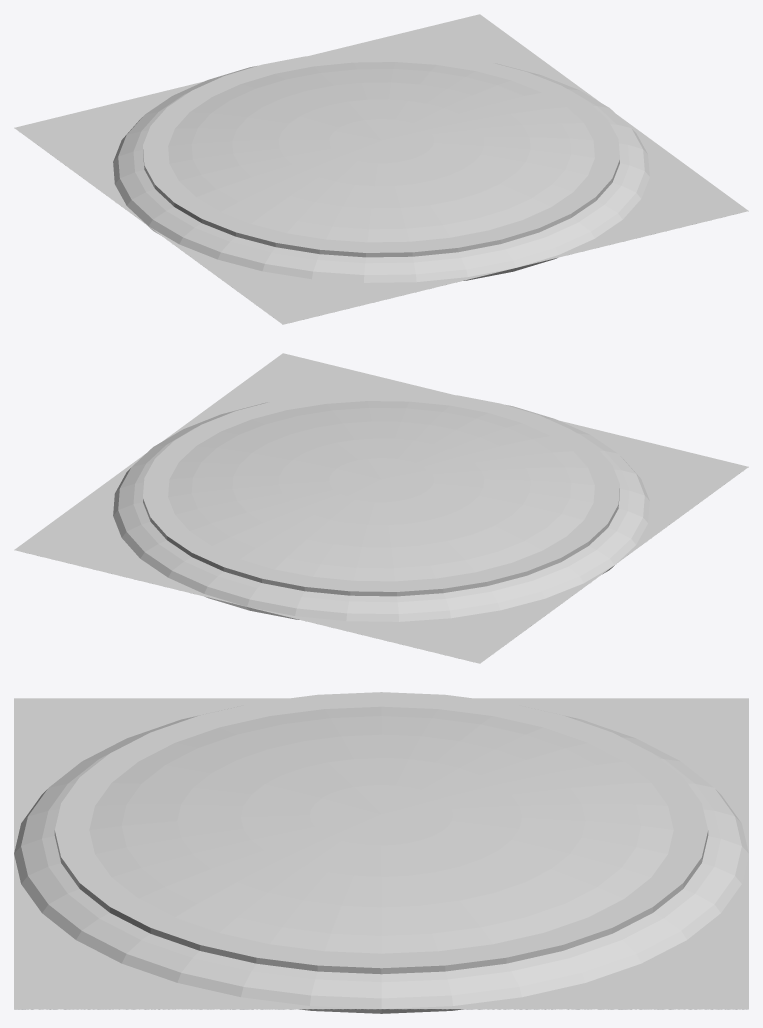
Rendered from singleObjectForest_1cm4cmInvisibleCone_12cmHex_large.dae.
3 renders of one model, top to bottom at view 1: azimuth 30°, elevation 25°; view 2: azimuth 150°, elevation 25°; view 3: azimuth 270°, elevation 25°, orthographic. The views are drawn at different scales.
Parts seen in each view (by area): view 1: Sphere, _Plane_p_, _cylinder_pic_; view 2: Sphere, _Plane_p_, _cylinder_pic_; view 3: Sphere, _Plane_p_, _cylinder_pic_, Plane.
Part boxes in pixels (x1,y1,x2,y2): Sphere: (113, 62, 649, 282); _Plane_p_: (14, 14, 748, 324); _cylinder_pic_: (143, 51, 619, 257); Sphere: (113, 401, 649, 621); _Plane_p_: (14, 353, 748, 663); _cylinder_pic_: (143, 390, 619, 596); Sphere: (14, 706, 748, 1013); _Plane_p_: (14, 698, 748, 1008); _cylinder_pic_: (54, 692, 708, 974); Plane: (14, 1009, 748, 1009).
Bounding box in the file's own units: 1350 × 1350 × 160.
Materials: 2 (1 with a texture image).
